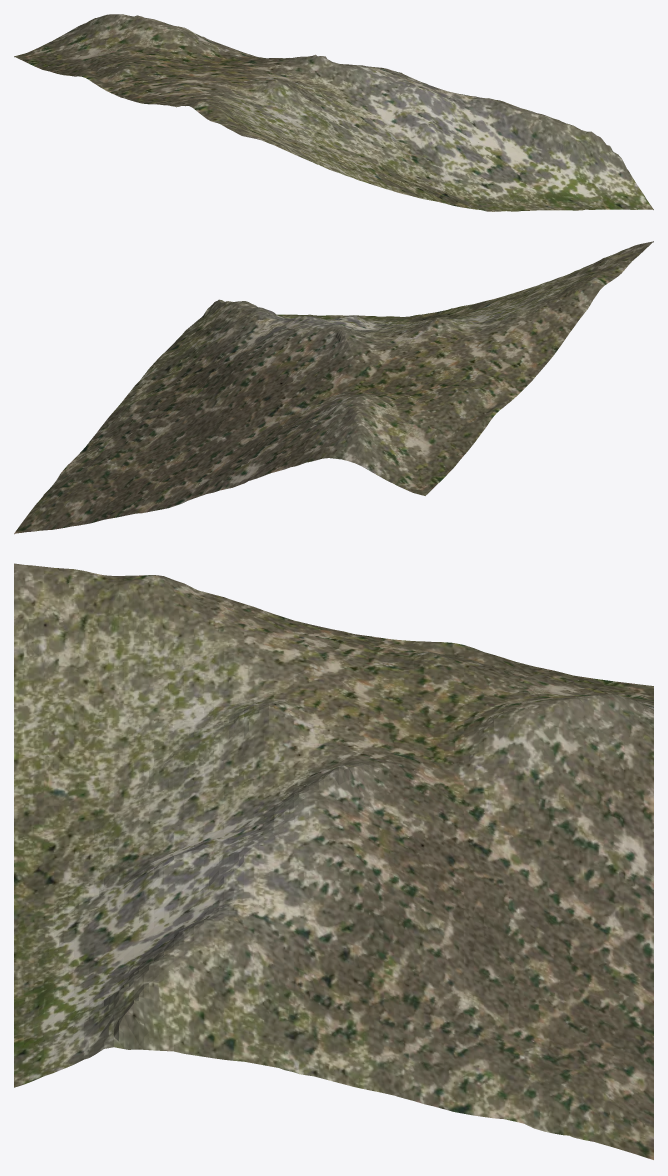
3 renders of one model, top to bottom at view 1: azimuth 30°, elevation 25°; view 2: azimuth 150°, elevation 25°; view 3: azimuth 270°, elevation 25°, orthographic. The views are drawn at different scales.
Bounding box in the file's own units: 500 × 263 × 481.
1 material, 1 textured.
